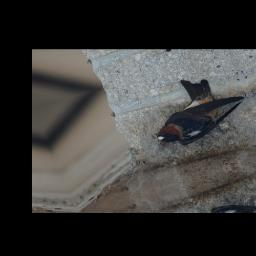Swallow: (135, 66, 256, 154)
